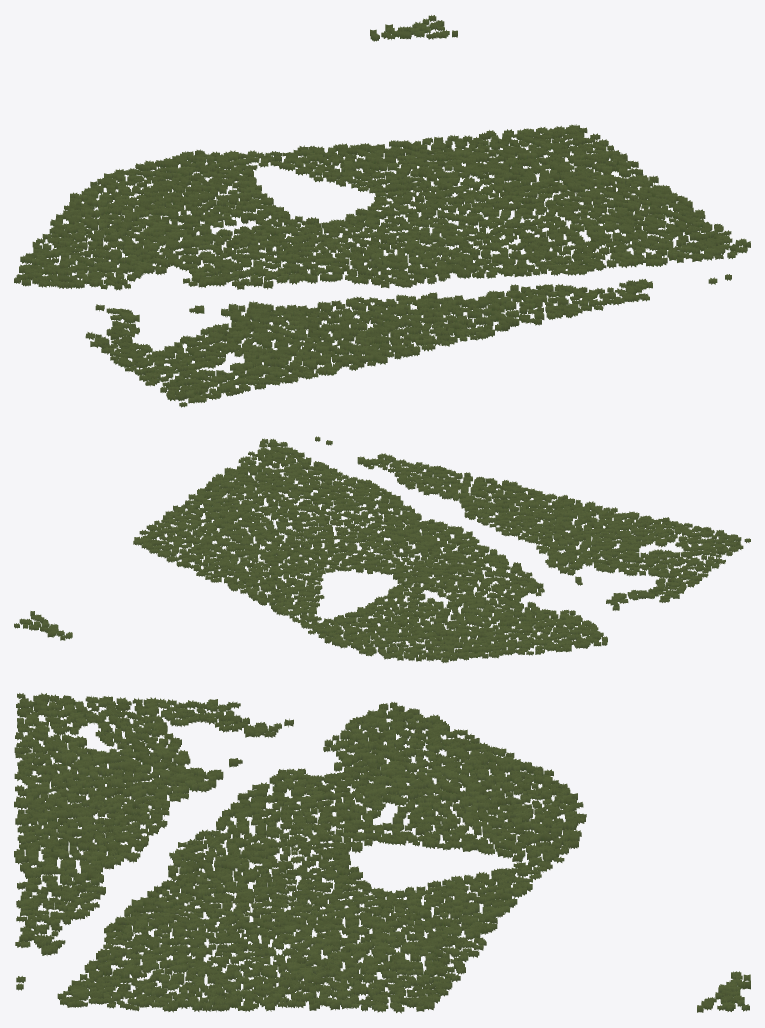
File: TRB8-GRASS-CHUNK-3-3.glb
The picture shows the model from 3 angles, top to bottom: view 1: azimuth 30°, elevation 25°; view 2: azimuth 150°, elevation 25°; view 3: azimuth 270°, elevation 25°; orthographic projection. The views are drawn at different scales.
Visible parts, largest first — view 1: TRB8-GRASS-CHUNK-3-3; view 2: TRB8-GRASS-CHUNK-3-3; view 3: TRB8-GRASS-CHUNK-3-3.
Boxes of the visible parts, x1,y1,x2,y2 form: TRB8-GRASS-CHUNK-3-3: (14,15,750,407); TRB8-GRASS-CHUNK-3-3: (14,436,750,662); TRB8-GRASS-CHUNK-3-3: (14,693,750,1013).
Size of the model in its own units: 40.52 by 0.8943 by 40.43.
Materials: 1 (1 with a texture image).
